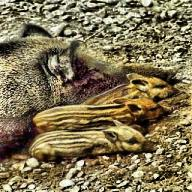boar: (0, 28, 181, 167)
